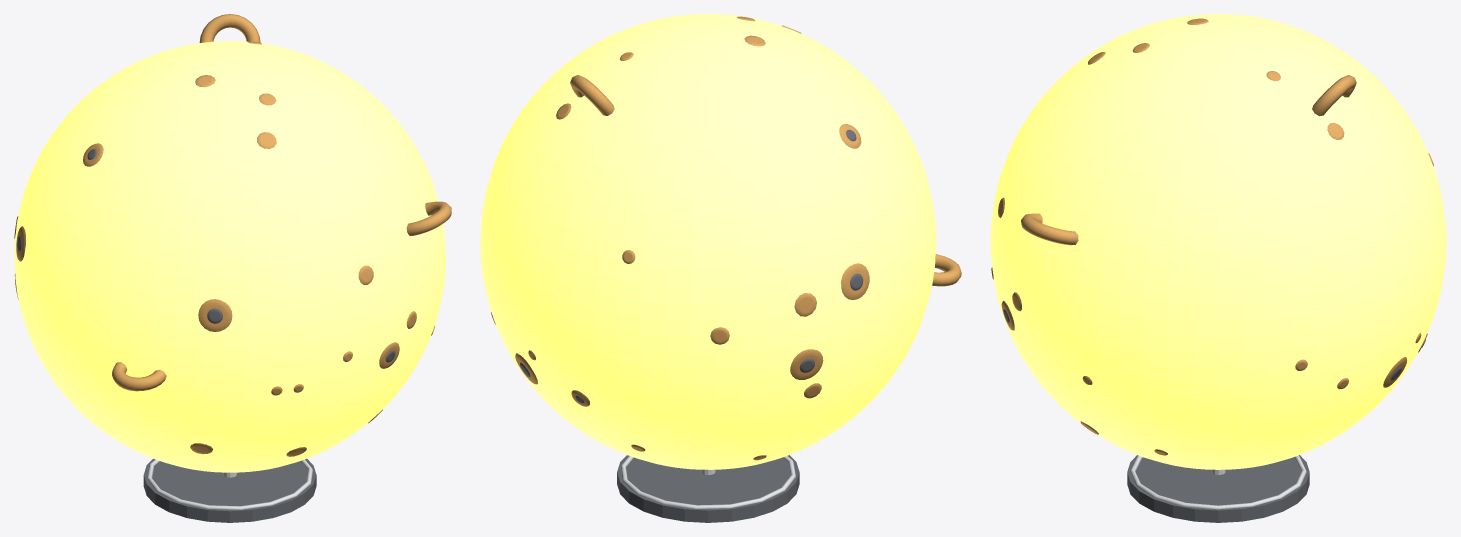
Rendered from solar-system-and-astronauts-sun-model-a4b68312__39237.glb.
The picture shows the model from 3 angles, left to right: view 1: azimuth 30°, elevation 25°; view 2: azimuth 150°, elevation 25°; view 3: azimuth 270°, elevation 25°; orthographic projection. The views are drawn at different scales.
Parts seen in each view (by area): view 1: sun-model; view 2: sun-model; view 3: sun-model.
Part boxes in pixels (x1=…): sun-model: x1=14, y1=14, x2=451, y2=522; sun-model: x1=480, y1=14, x2=961, y2=522; sun-model: x1=990, y1=14, x2=1446, y2=522.
Size of the model in its own units: 1 by 1.09 by 1.
